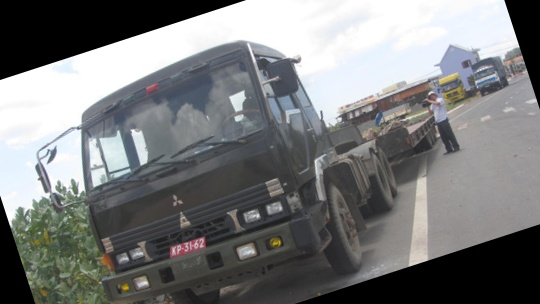plate: (164, 235, 207, 259)
